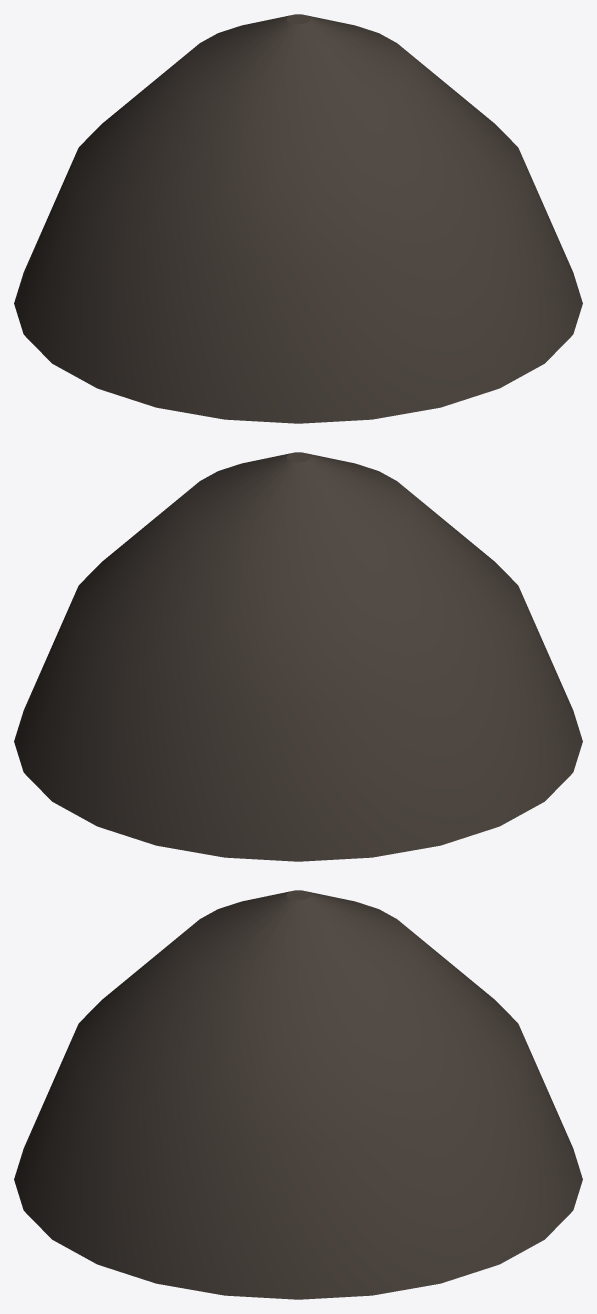
The model's file is Dirt.fbx.
3 renders of one model, top to bottom at view 1: azimuth 30°, elevation 25°; view 2: azimuth 150°, elevation 25°; view 3: azimuth 270°, elevation 25°, orthographic.
Parts seen in each view (by area): view 1: Cone; view 2: Cone; view 3: Cone.
Part boxes in pixels (x1=…): Cone: x1=14, y1=14, x2=582, y2=423; Cone: x1=14, y1=452, x2=582, y2=861; Cone: x1=14, y1=890, x2=582, y2=1299.
Bounding box in the file's own units: 100 × 55.12 × 100.
